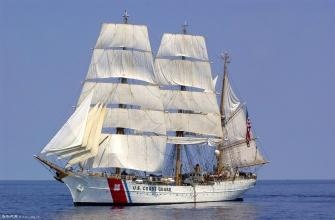fanchuan: (34, 9, 269, 205)
